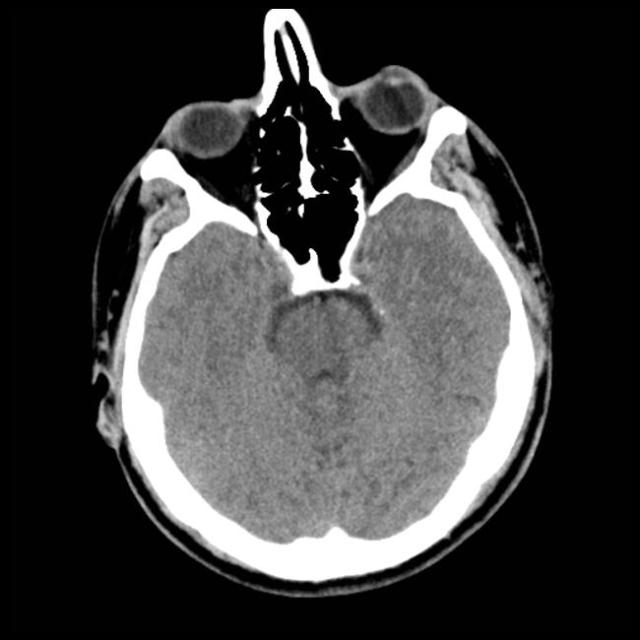lesion: (85, 8, 558, 595)
